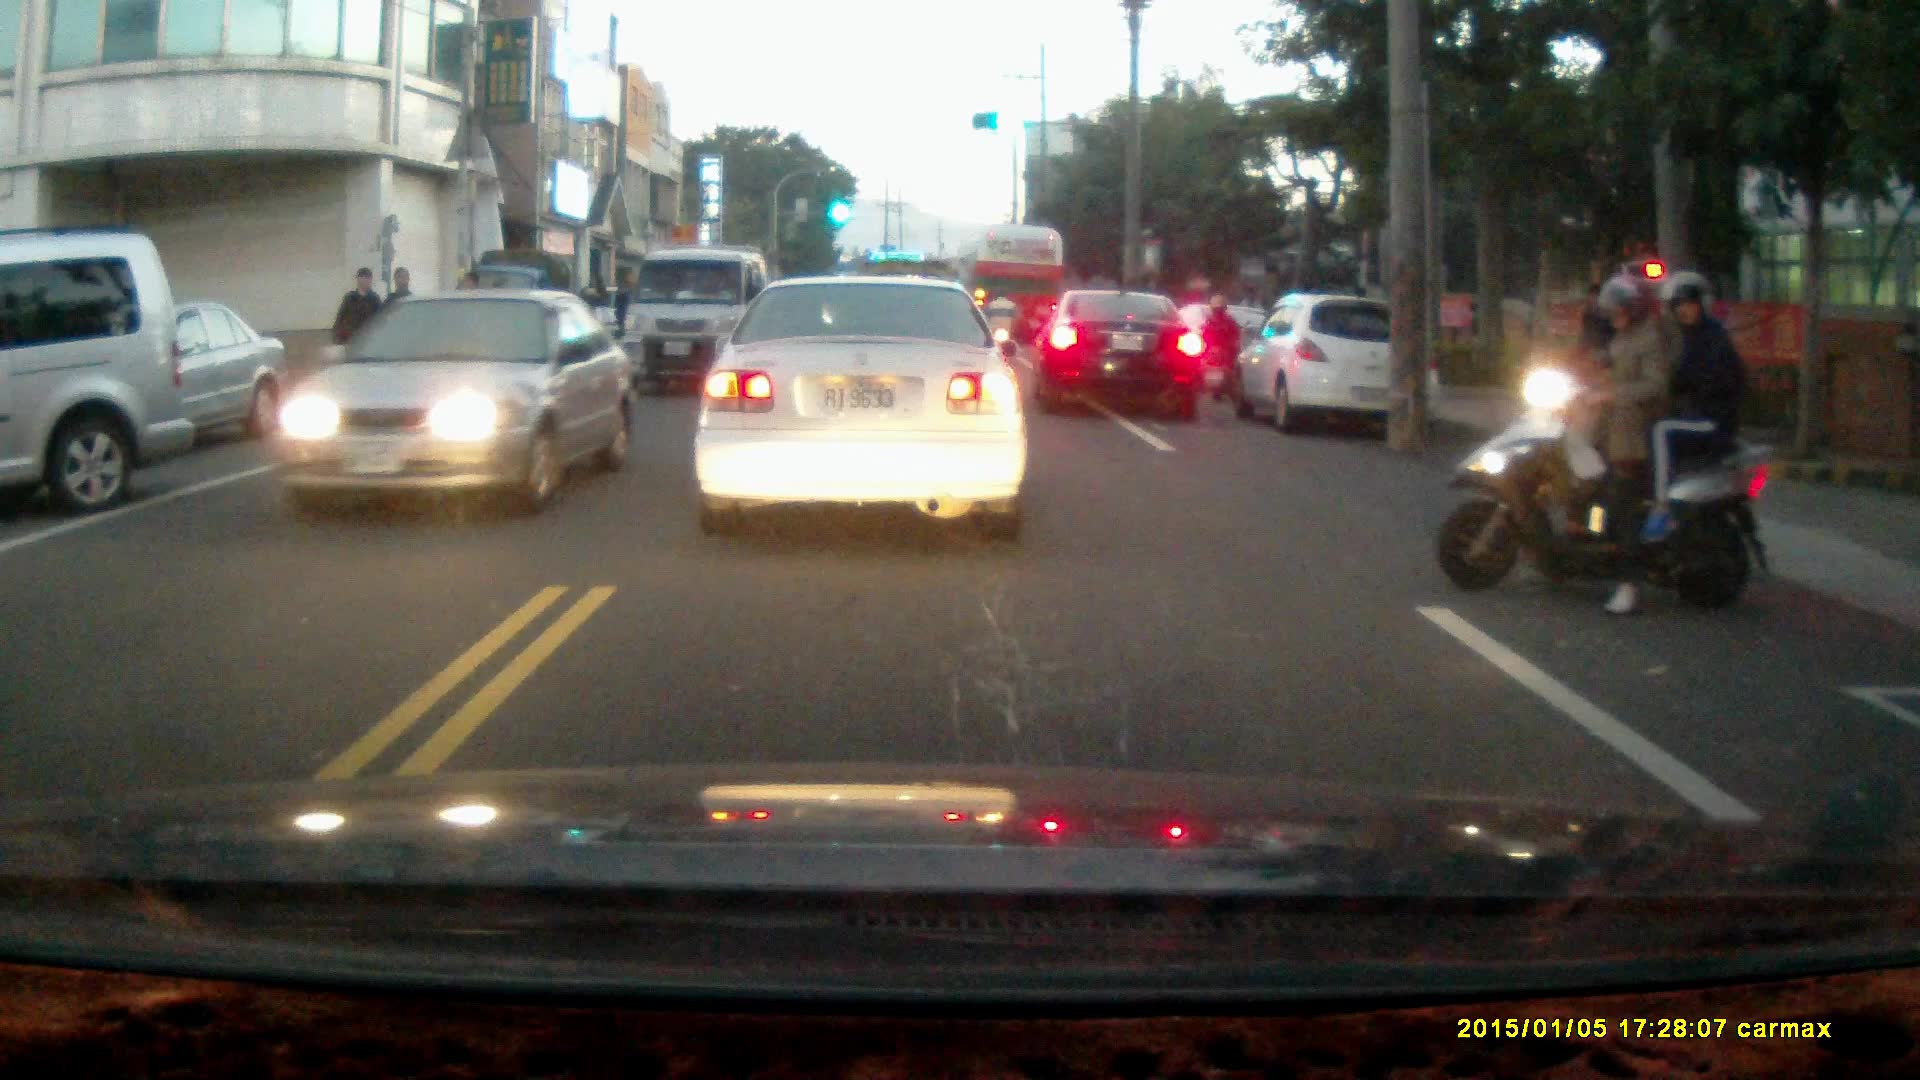pedestrian: (328, 265, 387, 427), (576, 268, 607, 365)
rider: (1438, 269, 1771, 622), (1195, 291, 1244, 403), (980, 287, 1019, 363)
vehicle: (693, 269, 1030, 541), (281, 287, 640, 519), (1, 224, 195, 512), (19, 295, 292, 454), (1242, 293, 1439, 438), (1032, 293, 1212, 422), (623, 245, 773, 394), (967, 224, 1071, 358)
